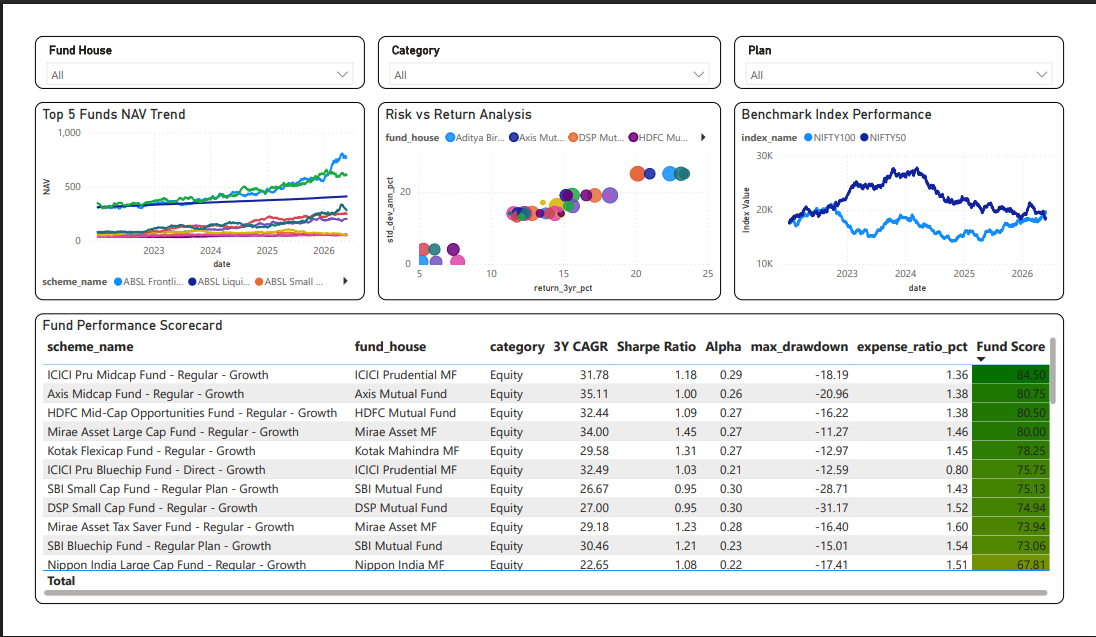

What the dashboard file says about the page in this screenshot:
{"tool":"powerbi","page":{"name":"Fund Performance","canvas":[1280,720],"ordinal":1},"visuals":[{"type":"scatterChart","title":"Risk vs Return Analysis","fields":{"X":["Performance.return_3yr_pct"],"Y":["Performance.std_dev_ann_pct"],"Size":["Sum(Performance.aum_crore)"],"Series":["FundMaster.fund_house"]},"box":[432,96,416,240],"z":0},{"type":"tableEx","title":"Fund Performance Scorecard","fields":{"Values":["FundMaster.scheme_name","FundMaster.fund_house","FundMaster.category","FundScorecard.CAGR_3Y","FundScorecard.Sharpe_Ratio","FundScorecard.Alpha","FundScorecard.max_drawdown","FundScorecard.expense_ratio_pct","FundScorecard.Fund_Score"]},"box":[16,352,1248,352],"z":1000},{"type":"lineChart","title":"Top 5 Funds NAV Trend","fields":{"Y":["Avg(NAV.nav)"],"Series":["FundMaster.scheme_name"],"Category":["NAV.date"]},"box":[16,96,400,240],"z":2000},{"type":"lineChart","title":"Benchmark Index Performance","fields":{"Y":["Sum(Benchmark.close_value)"],"Series":["Benchmark.index_name"],"Category":["Benchmark.date"]},"box":[864,96,400,240],"z":3000},{"type":"slicer","title":"Fund House","fields":{"Values":["FundMaster.fund_house"]},"box":[16,16,400,64],"z":4000},{"type":"slicer","title":"Fund House","fields":{"Values":["FundMaster.category","FundMaster.sub_category"]},"box":[432,16,416,64],"z":5000},{"type":"slicer","title":"Fund House","fields":{"Values":["FundMaster.plan"]},"box":[864,16,400,64],"z":6000}]}

Visuals, with their boxes on the page's 1280x720 design canvas (x1, y1, x2, y2). These are canvas units, not pixel positions in the 1096x637 screenshot, which may show the page scaled, cropped or inside an application window:
"Risk vs Return Analysis" scatterChart: <region>432, 96, 848, 336</region>
"Fund Performance Scorecard" tableEx: <region>16, 352, 1264, 704</region>
"Top 5 Funds NAV Trend" lineChart: <region>16, 96, 416, 336</region>
"Benchmark Index Performance" lineChart: <region>864, 96, 1264, 336</region>
"Fund House" slicer: <region>16, 16, 416, 80</region>
"Fund House" slicer: <region>432, 16, 848, 80</region>
"Fund House" slicer: <region>864, 16, 1264, 80</region>
